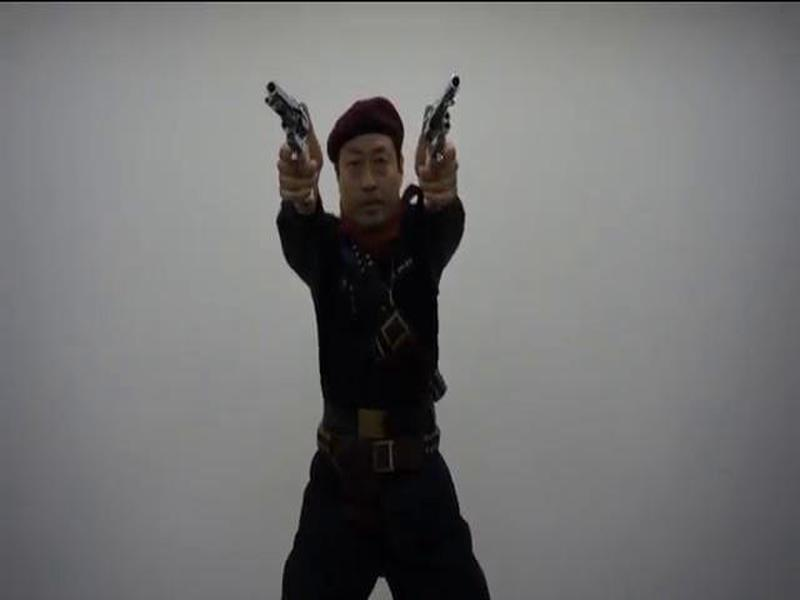Revolver: (415, 65, 474, 202), (255, 73, 318, 169)
